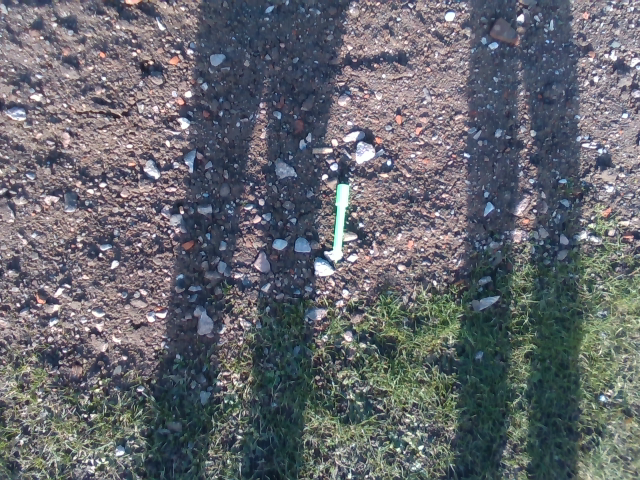Probe: (329, 177, 353, 263)
